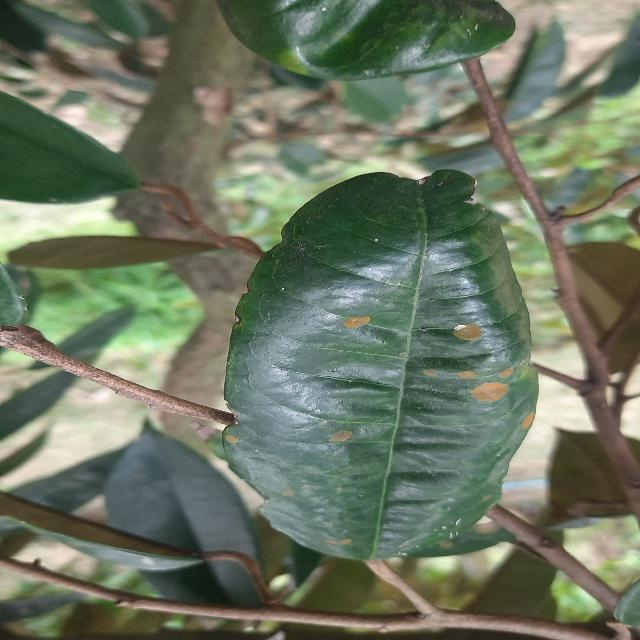Algal Leaf Spot: (221, 172, 541, 567)
